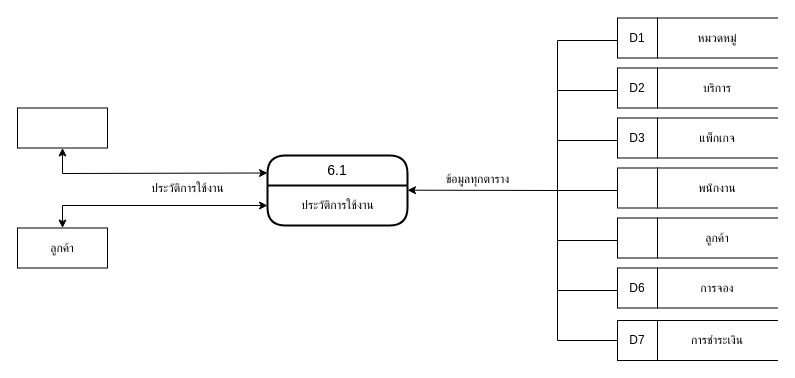
The diagram is 795 pixels wide and 378 high, and some of its shapes have lost their labels. The shapes that lost their labels are listed below. From the top down, each one's centre as x and y in pixels, then its label:
(62,127): ผู้ดูแลระบบ
(637,187): D4
(637,237): D5
